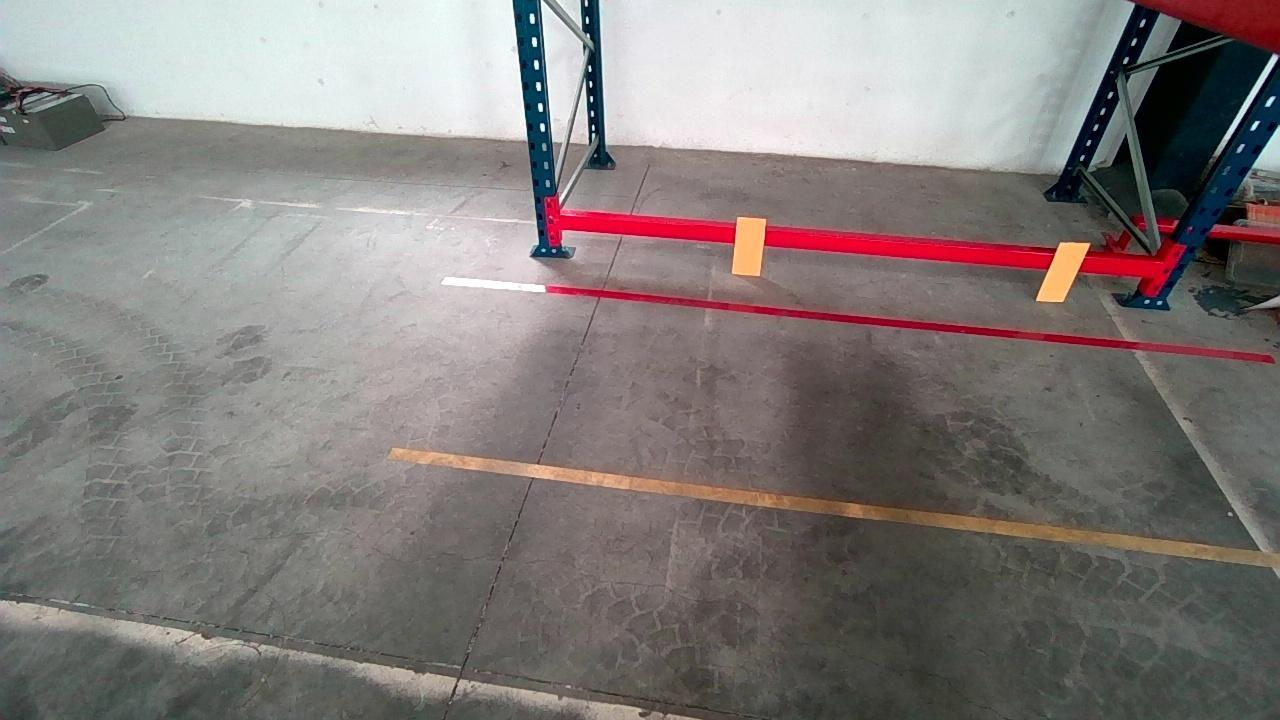h_rack: (556, 208, 1162, 279)
orange_strip: (1038, 241, 1094, 301), (734, 216, 767, 276)
red_line: (440, 274, 1274, 363)
yellow_line: (389, 445, 1280, 573)
